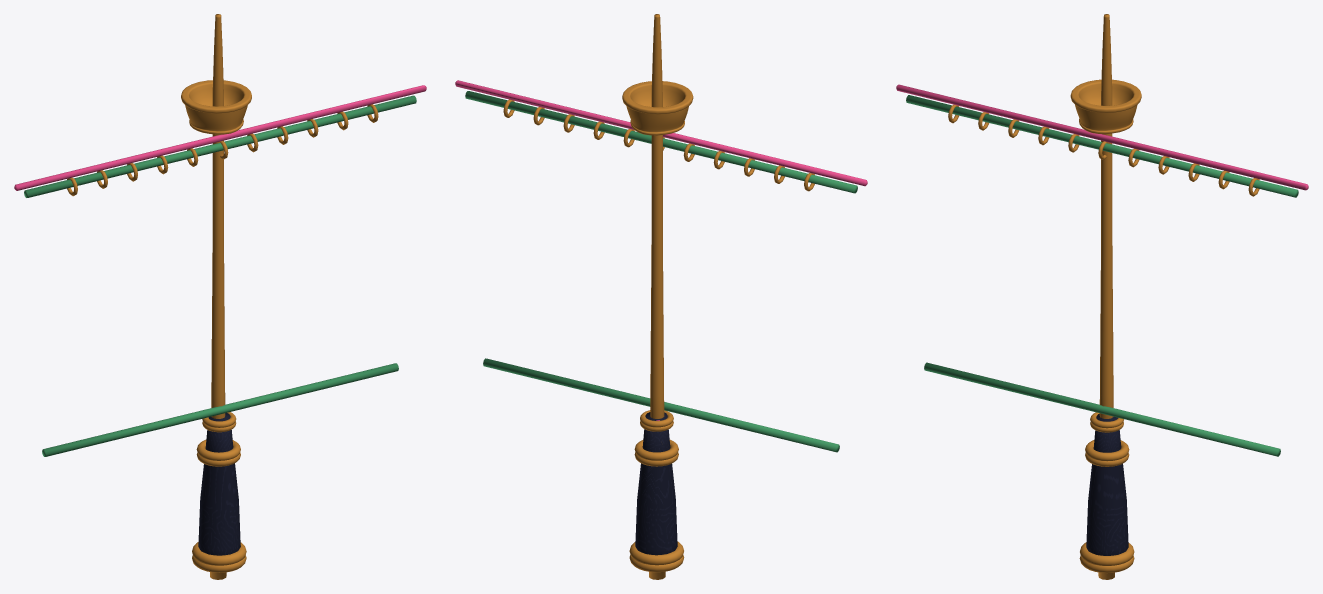
Rendered from BigPole.fbx.
3 views of the same model, side by side, from view 1: azimuth 30°, elevation 25°; view 2: azimuth 150°, elevation 25°; view 3: azimuth 330°, elevation 25° (orthographic).
Parts seen in each view (by area): view 1: BigPole_LOD0; view 2: BigPole_LOD0; view 3: BigPole_LOD0.
Boxes of the visible parts, x1,y1,x2,y2 form: BigPole_LOD0: (14, 14, 426, 579); BigPole_LOD0: (455, 14, 867, 579); BigPole_LOD0: (896, 14, 1308, 579).
Size of what is drawn, in the model's own units: 19.03 by 24.83 by 2.85.
4 materials, 1 textured.
